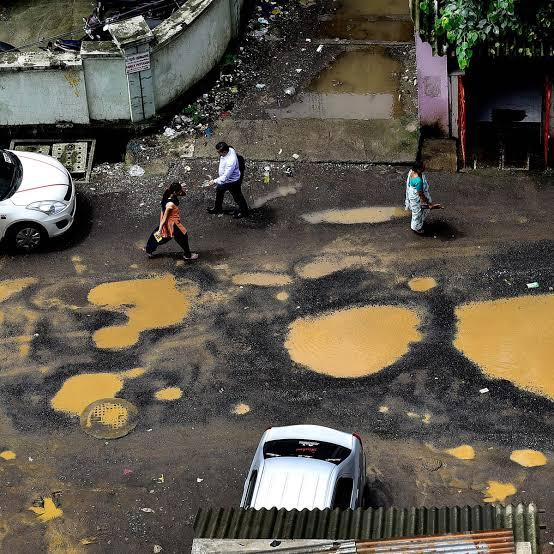D20: (234, 254, 265, 277)
D40: (265, 288, 442, 403), (0, 146, 26, 204), (405, 268, 442, 294), (0, 317, 31, 342), (397, 460, 422, 481)
